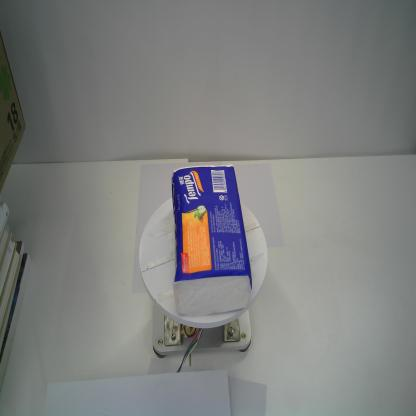Tissue: (171, 164, 254, 318)
